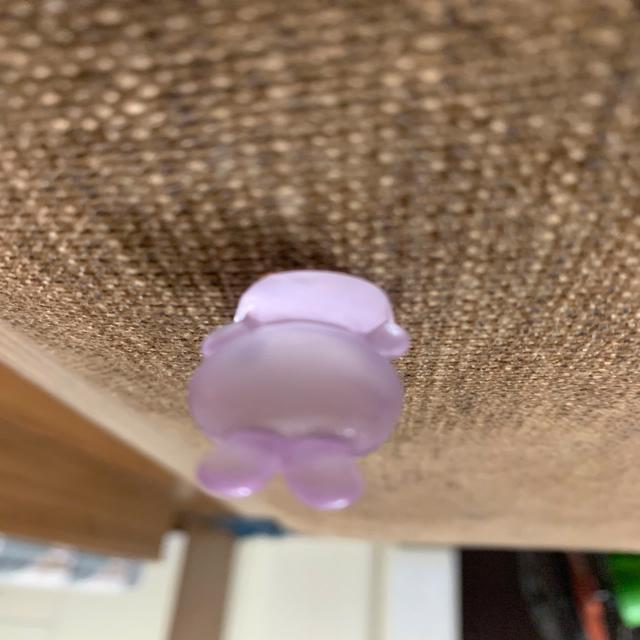Teddy: (186, 268, 412, 512)
